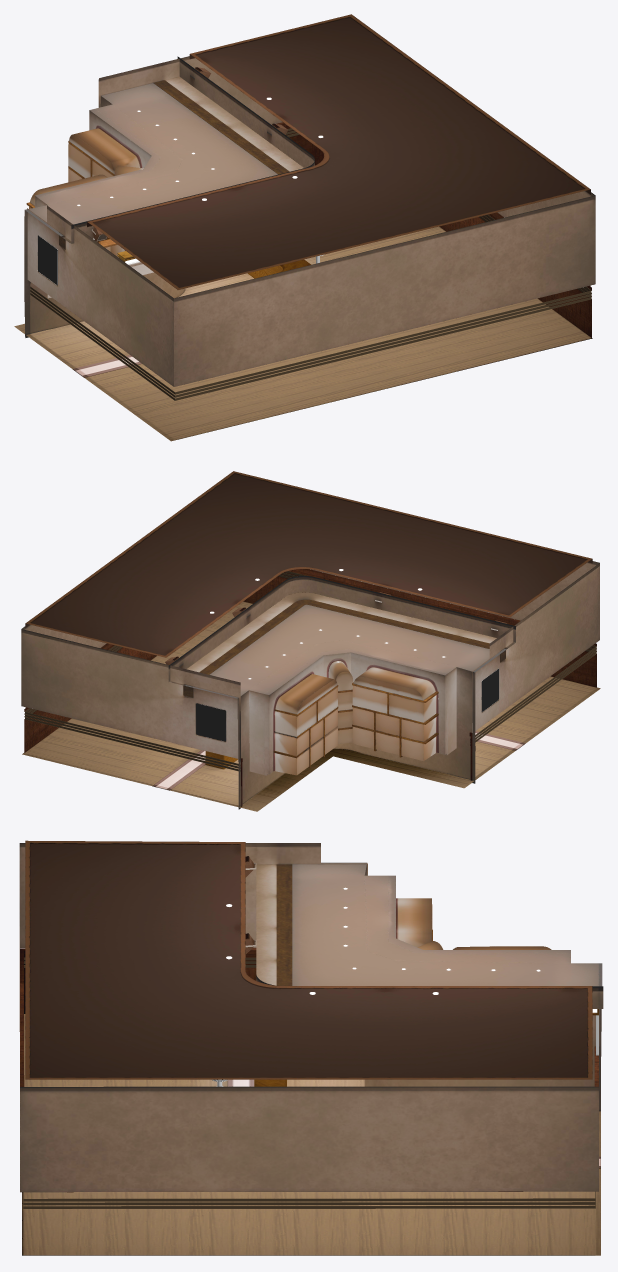
Rendered from Cocktail Den.glb.
3 views of the same model, one above another, from view 1: azimuth 30°, elevation 25°; view 2: azimuth 150°, elevation 25°; view 3: azimuth 270°, elevation 25° (orthographic). The views are drawn at different scales.
Visible parts, largest first — view 1: wall, Cealing, flooor, Props1, flooor.001; view 2: wall, Cealing, flooor, Props1, flooor.001; view 3: wall, Cealing, flooor, Props1.
Part boxes in pixels (x1,y1,x2,y2): wall: (24,56,595,400); Cealing: (87,14,590,289); flooor: (14,226,592,441); Props1: (26,67,310,278); flooor.001: (72,355,141,377); wall: (21,561,599,809); Cealing: (25,471,592,657); flooor: (22,601,600,811); Props1: (165,592,507,769); flooor.001: (152,731,525,790); wall: (19,843,603,1208); Cealing: (25,840,592,1079); flooor: (22,1014,600,1255); Props1: (245,856,432,1086).
Bounding box in the file's own units: 114 × 38.64 × 114.
Materials: 24 (12 with a texture image).
